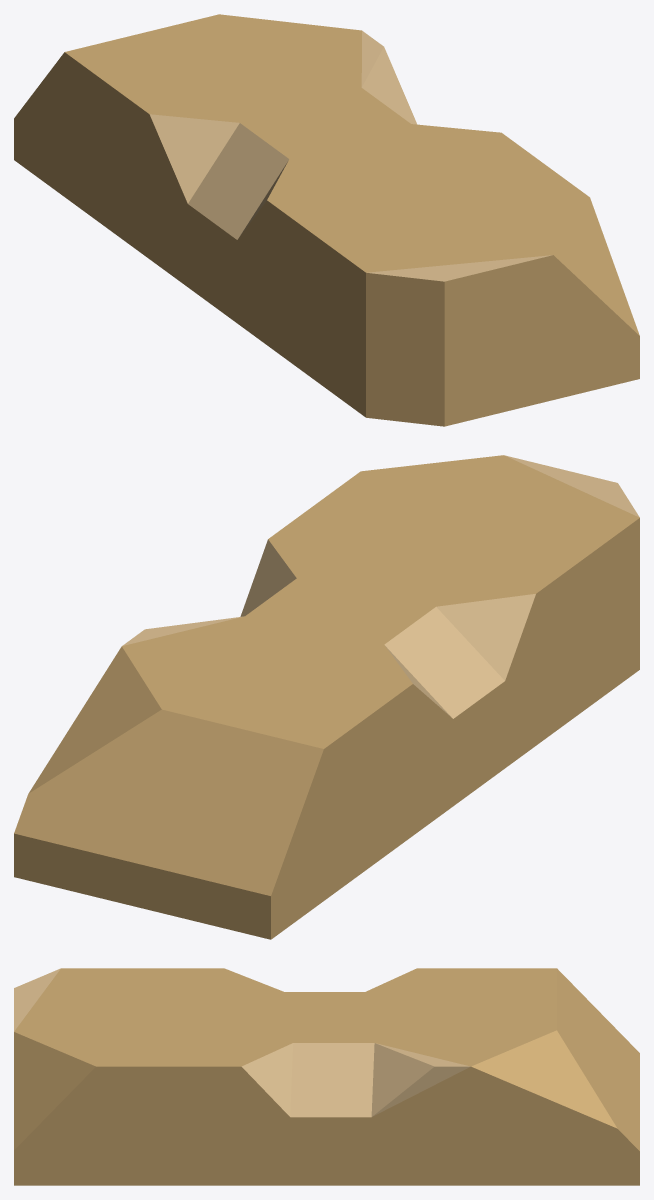
File: desert_rock_15.fbx
3 views of the same model, one above another, from view 1: azimuth 30°, elevation 25°; view 2: azimuth 150°, elevation 25°; view 3: azimuth 270°, elevation 25° (orthographic). The views are drawn at different scales.
Visible parts, largest first — view 1: desert_rock_15; view 2: desert_rock_15; view 3: desert_rock_15.
Boxes of the visible parts, box(x1,y1,x2,y2) form: desert_rock_15: box(14, 14, 639, 426); desert_rock_15: box(14, 455, 639, 939); desert_rock_15: box(14, 968, 639, 1185).
Bounding box in the file's own units: 68.59 × 38.76 × 184.
